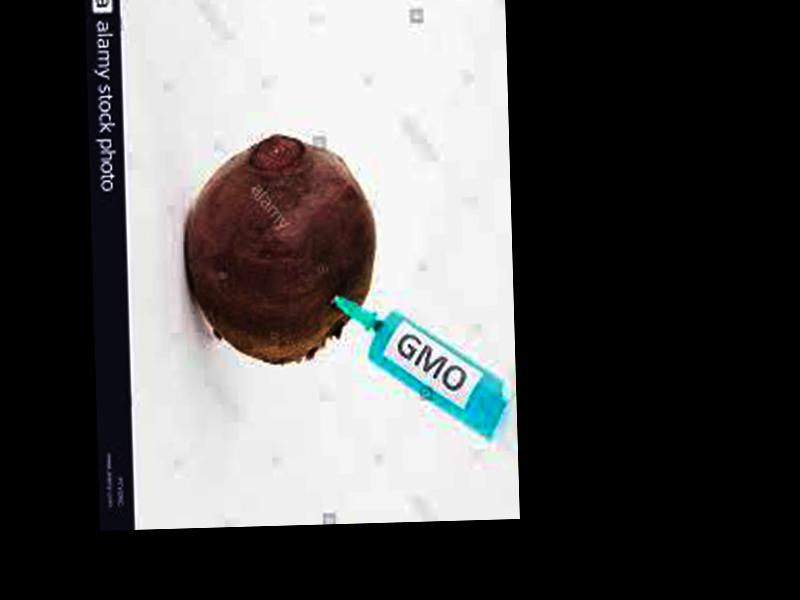Beet: (180, 134, 379, 362)
